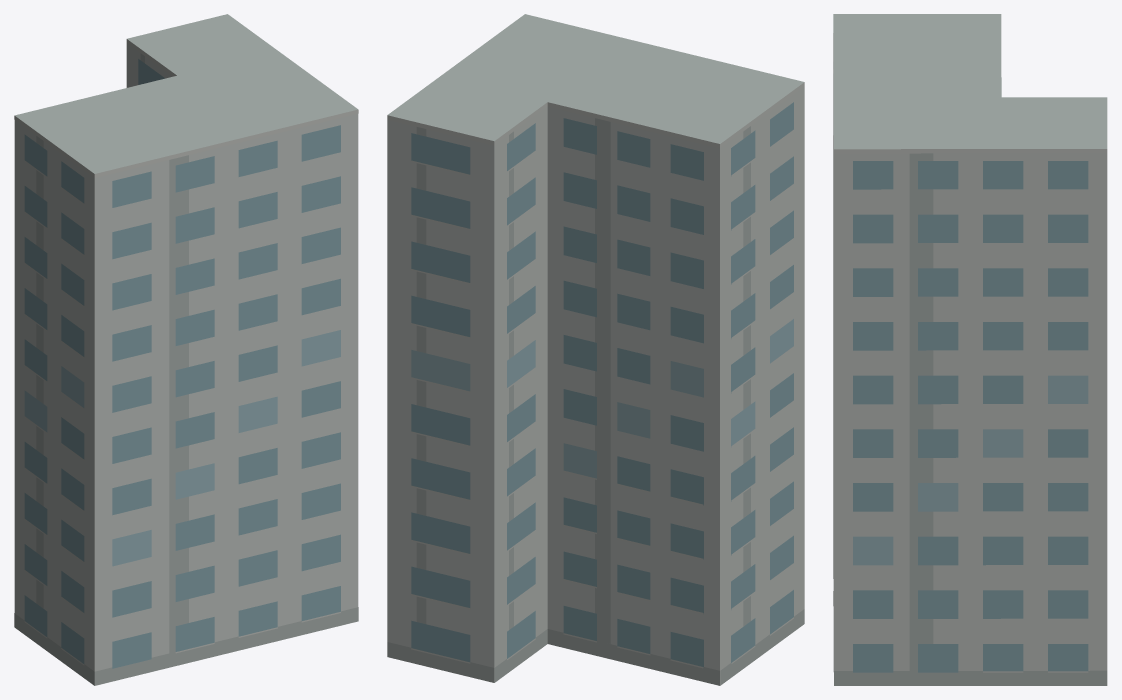
The model's file is residential-4f820e67-00e0-49e6-a06e-bd0b8ae5a6f8.glb.
3 views of the same model, side by side, from view 1: azimuth 30°, elevation 25°; view 2: azimuth 150°, elevation 25°; view 3: azimuth 270°, elevation 25° (orthographic). The views are drawn at different scales.
Visible parts, largest first — view 1: residential-4f820e67-00e0-49e6-a06e-bd0b8ae5a6f8.tmp; view 2: residential-4f820e67-00e0-49e6-a06e-bd0b8ae5a6f8.tmp; view 3: residential-4f820e67-00e0-49e6-a06e-bd0b8ae5a6f8.tmp.
Part boxes in pixels (x1=…): residential-4f820e67-00e0-49e6-a06e-bd0b8ae5a6f8.tmp: x1=14, y1=14, x2=358, y2=685; residential-4f820e67-00e0-49e6-a06e-bd0b8ae5a6f8.tmp: x1=387, y1=14, x2=804, y2=685; residential-4f820e67-00e0-49e6-a06e-bd0b8ae5a6f8.tmp: x1=833, y1=14, x2=1107, y2=685.
Bounding box in the file's own units: 16.22 × 30 × 13.9.
